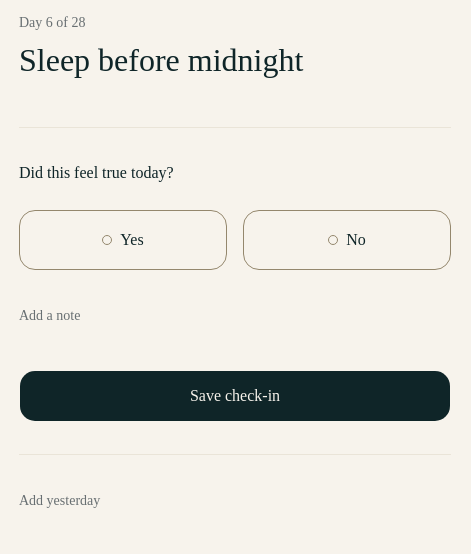
it: TodayDashboard › during the season › shows a calm validation message when saving without an answer
Click the button "Save check-in": coordinates (235, 396) [19,370,451,422]
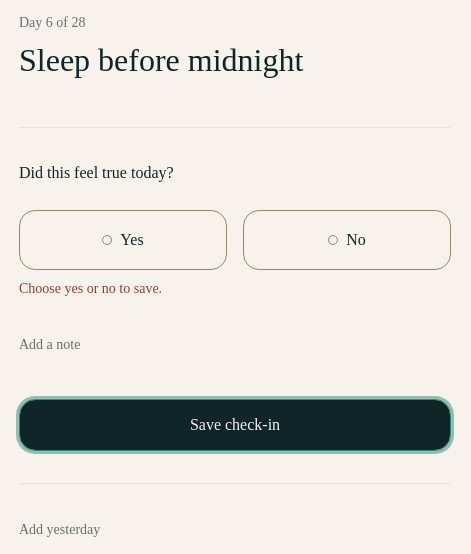
Now the text "Choose yes or no to save." is shown, box [19,281,162,296]
